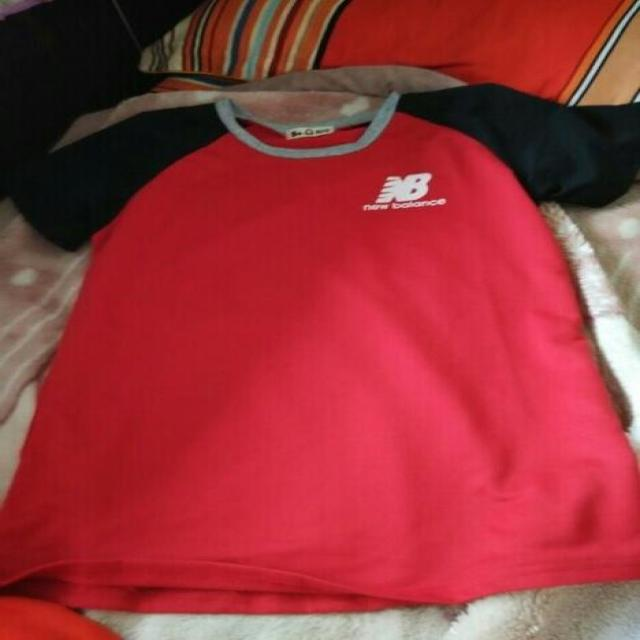short-sleeve-top: (4, 77, 640, 594)
